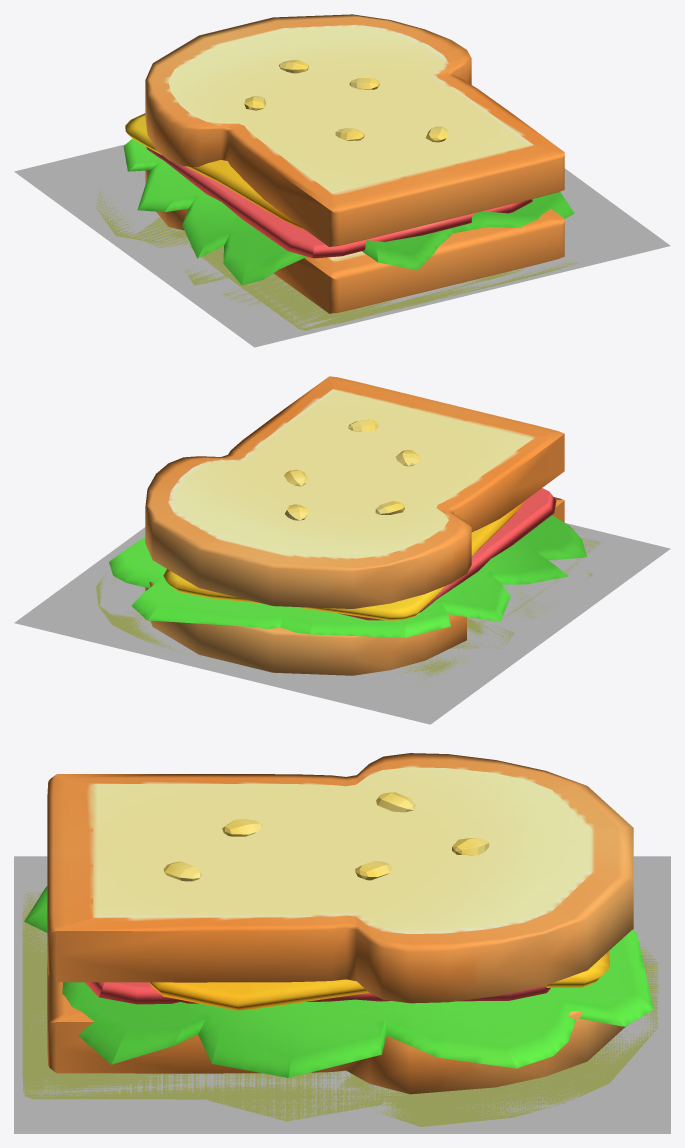
Rendered from Sandwich.fbx.
The picture shows the model from 3 angles, top to bottom: view 1: azimuth 30°, elevation 25°; view 2: azimuth 150°, elevation 25°; view 3: azimuth 270°, elevation 25°; orthographic projection. The views are drawn at different scales.
Visible parts, largest first — view 1: Sandwich, SandwichGrid, Loaf1, Letuce, SandwichShadow, Ham, Cheese, Seed; view 2: Sandwich, SandwichGrid, Letuce, Loaf1, Cheese, SandwichShadow, Ham, Seed; view 3: Sandwich, SandwichGrid, Letuce, SandwichShadow, Loaf1, Cheese, Seed, Ham.
Boxes of the visible parts, left/top/right/bottom form: Sandwich: left=145, top=14, right=564, bottom=247; SandwichGrid: left=14, top=144, right=670, bottom=347; Loaf1: left=145, top=170, right=564, bottom=313; Letuce: left=123, top=138, right=574, bottom=285; SandwichShadow: left=96, top=168, right=578, bottom=330; Ham: left=146, top=147, right=532, bottom=258; Cheese: left=125, top=113, right=306, bottom=230; Seed: left=244, top=60, right=449, bottom=142; Sandwich: left=145, top=376, right=564, bottom=608; SandwichGrid: left=14, top=523, right=670, bottom=724; Letuce: left=109, top=515, right=586, bottom=637; Loaf1: left=145, top=497, right=564, bottom=675; Cheese: left=163, top=501, right=524, bottom=620; SandwichShadow: left=96, top=527, right=600, bottom=685; Ham: left=338, top=488, right=556, bottom=620; Seed: left=284, top=419, right=420, bottom=520; Sandwich: left=47, top=753, right=633, bottom=1003; SandwichGrid: left=14, top=856, right=670, bottom=1133; Letuce: left=24, top=886, right=653, bottom=1077; SandwichShadow: left=22, top=891, right=658, bottom=1126; Loaf1: left=47, top=929, right=633, bottom=1094; Cheese: left=149, top=951, right=609, bottom=1010; Seed: left=163, top=792, right=489, bottom=881; Ham: left=85, top=982, right=550, bottom=1004.
Bounding box in the file's own units: 100 × 26.21 × 100.
